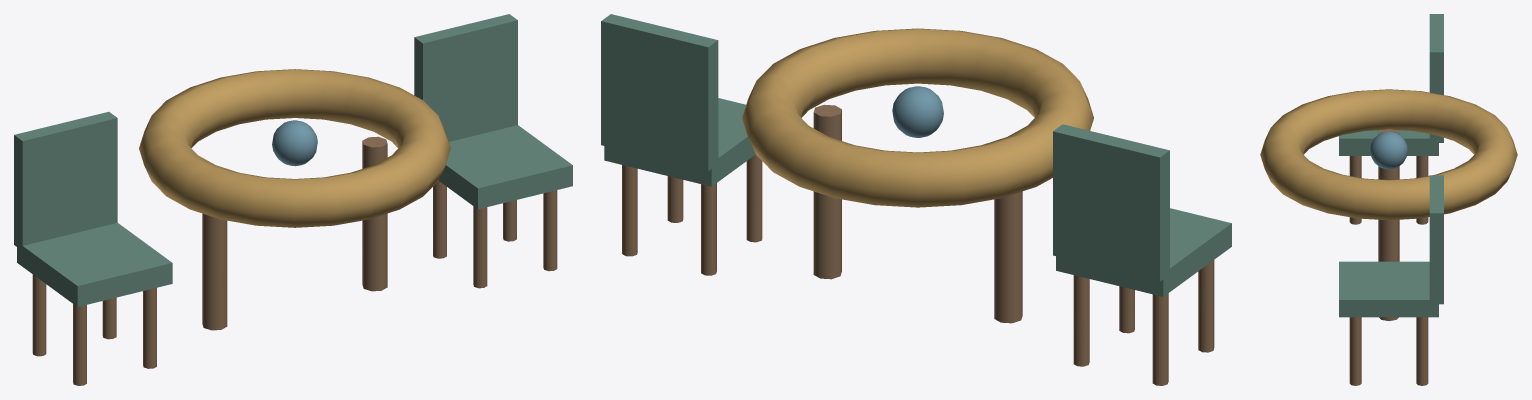
The picture shows the model from 3 angles, left to right: view 1: azimuth 30°, elevation 25°; view 2: azimuth 150°, elevation 25°; view 3: azimuth 270°, elevation 25°; orthographic projection. The views are drawn at different scales.
Bounding box in the file's own units: 1.98 × 0.81 × 1.08.
